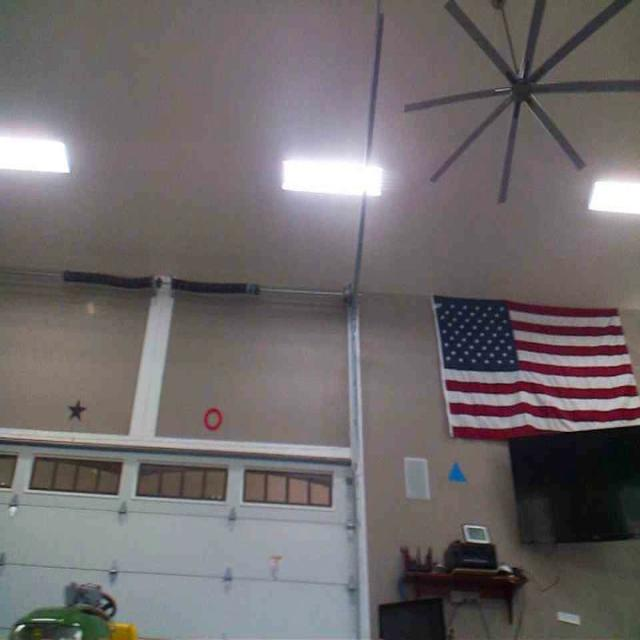ring_red: (203, 407, 222, 430)
triangle_black: (66, 398, 86, 423)
triangle_blue: (448, 460, 468, 482)
